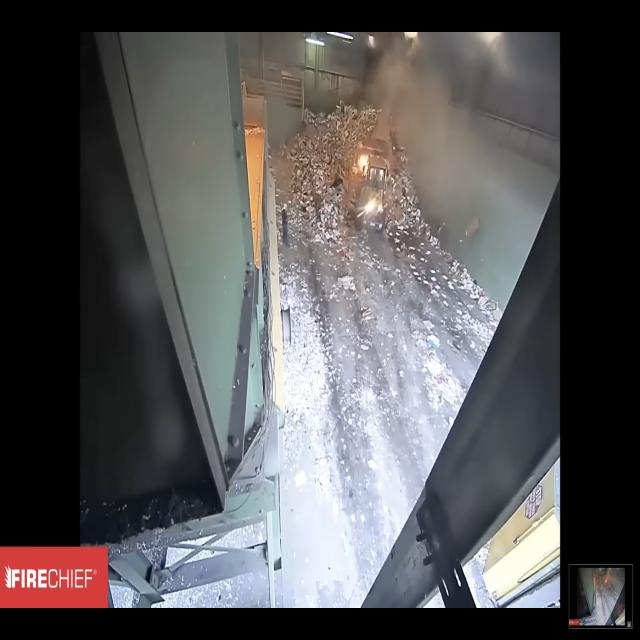Atencao: (322, 31, 560, 315)
Fogo: (349, 134, 387, 190)
